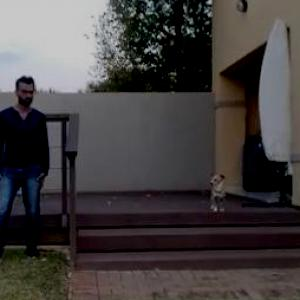follow: (0, 68, 51, 284)
